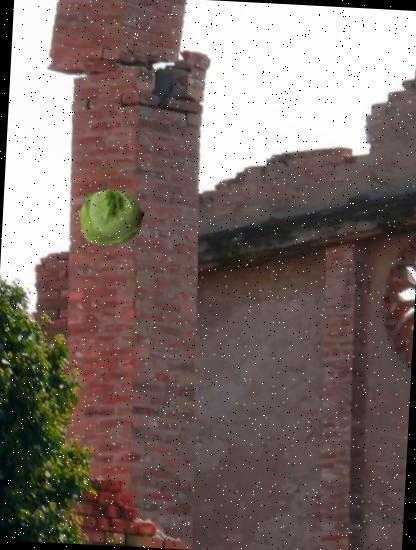Kohlrabi: (78, 184, 146, 252)
